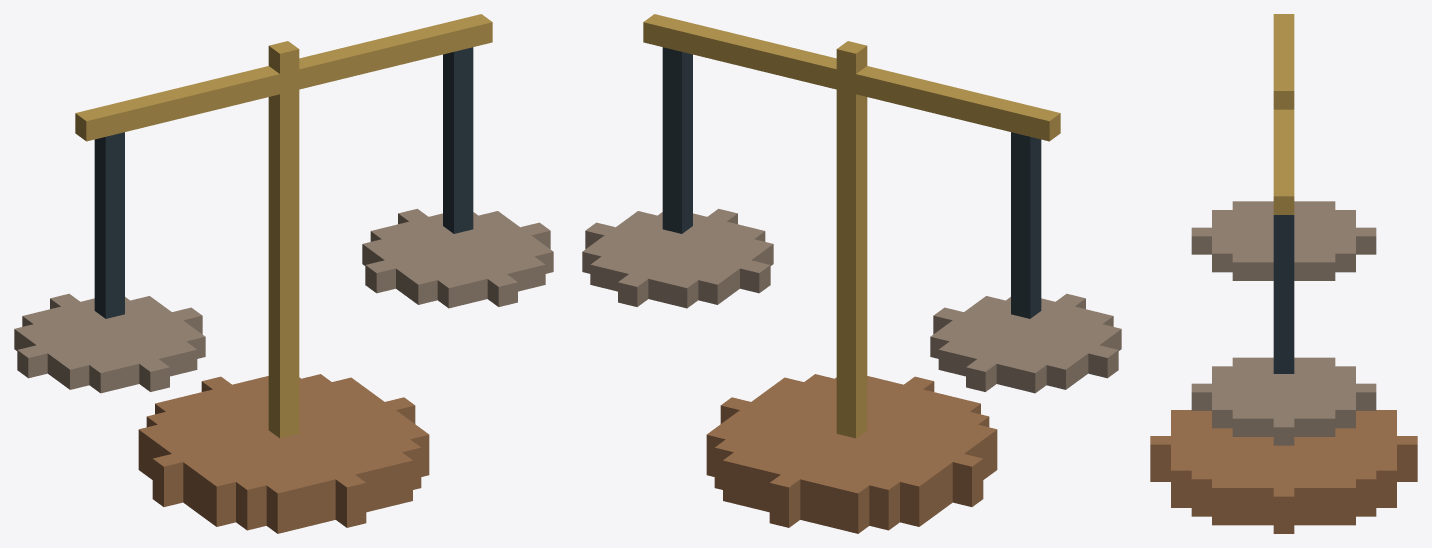
File: legal-01.glb
The picture shows the model from 3 angles, left to right: view 1: azimuth 30°, elevation 25°; view 2: azimuth 150°, elevation 25°; view 3: azimuth 270°, elevation 25°; orthographic projection. The views are drawn at different scales.
Visible parts, largest first — view 1: Justice scales; view 2: Justice scales; view 3: Justice scales.
Boxes of the visible parts, x1,y1,x2,y2 form: Justice scales: (14,14,553,533); Justice scales: (582,14,1121,533); Justice scales: (1150,14,1417,533).
Bounding box in the file's own units: 2.16 × 1.68 × 1.04.
